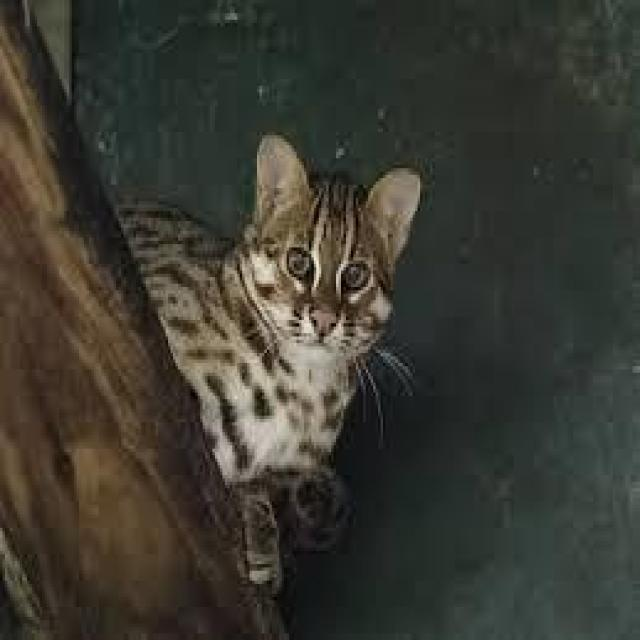leopard: (128, 106, 452, 465)
